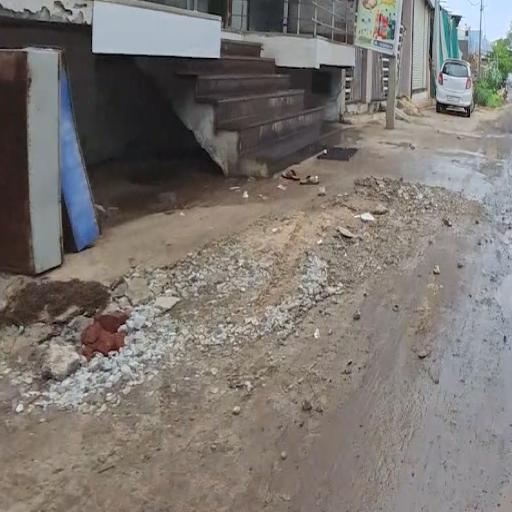edge_damage: (116, 185, 482, 451)
